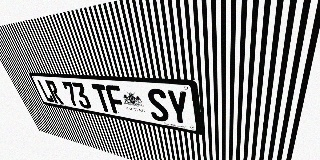3: (71, 82, 92, 109)
7: (61, 81, 81, 107)
F: (104, 85, 127, 115)
L: (36, 79, 55, 103)
R: (45, 80, 64, 104)
S: (146, 88, 170, 123)
T: (91, 84, 113, 113)
Y: (165, 89, 191, 126)
